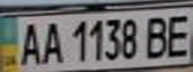1: (66, 17, 87, 63), (87, 16, 106, 62)
3: (103, 16, 124, 61)
8: (118, 15, 142, 61)
A: (15, 18, 45, 66), (39, 18, 66, 65)
B: (142, 12, 172, 60)
E: (160, 11, 193, 58)
